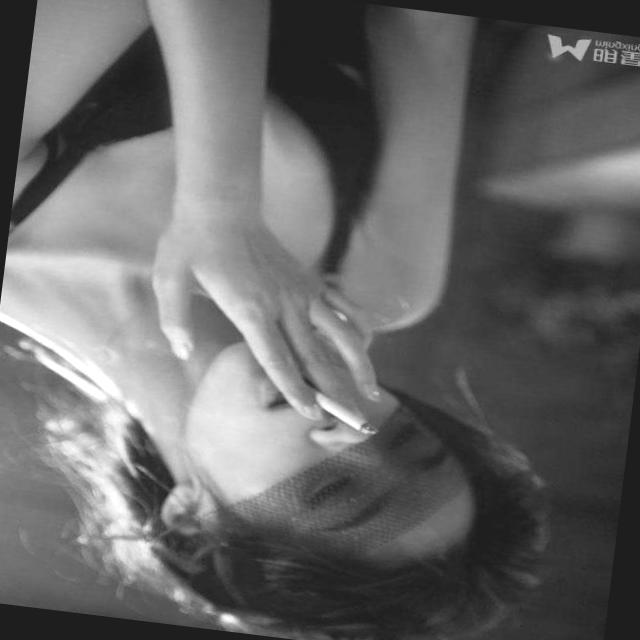smoke: (256, 359, 389, 444)
